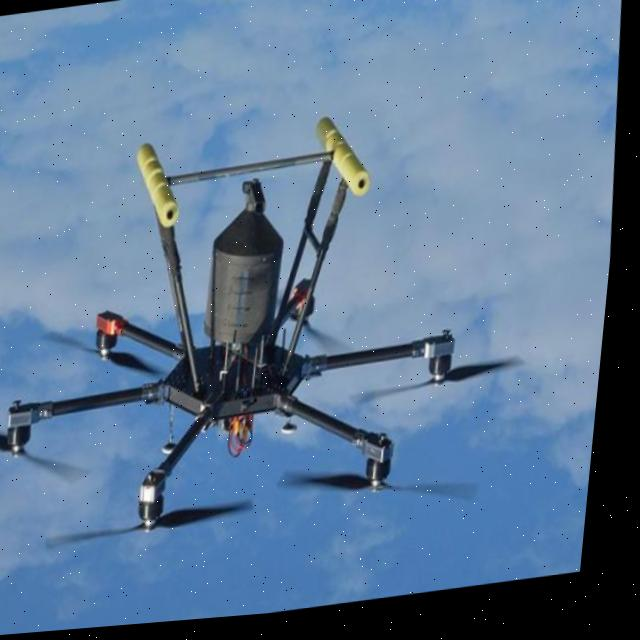drones: (0, 39, 576, 629)
